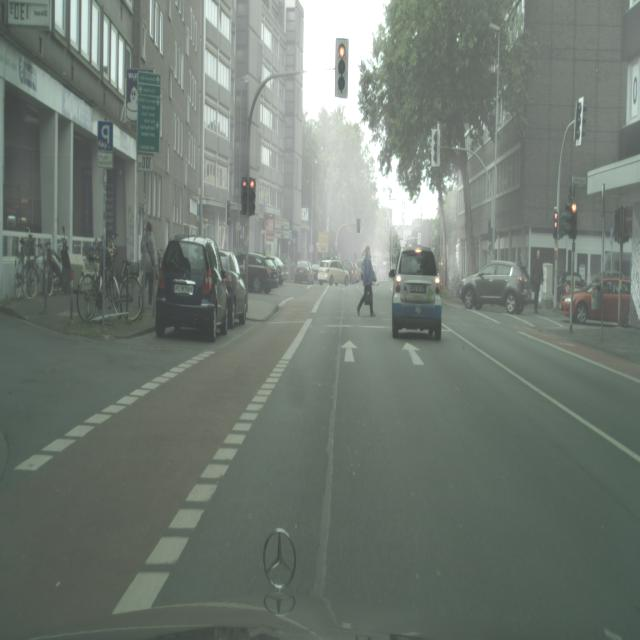bus: (155, 236, 229, 342), (390, 246, 442, 341), (458, 260, 532, 314), (563, 274, 631, 325), (220, 249, 248, 326), (243, 252, 278, 294), (559, 274, 588, 311), (320, 259, 349, 286), (266, 256, 285, 285), (294, 259, 312, 284), (343, 259, 360, 283), (317, 261, 331, 284)
car: (77, 237, 143, 324), (15, 239, 40, 301)
person: (140, 220, 159, 311), (357, 244, 376, 317), (531, 249, 543, 315)
